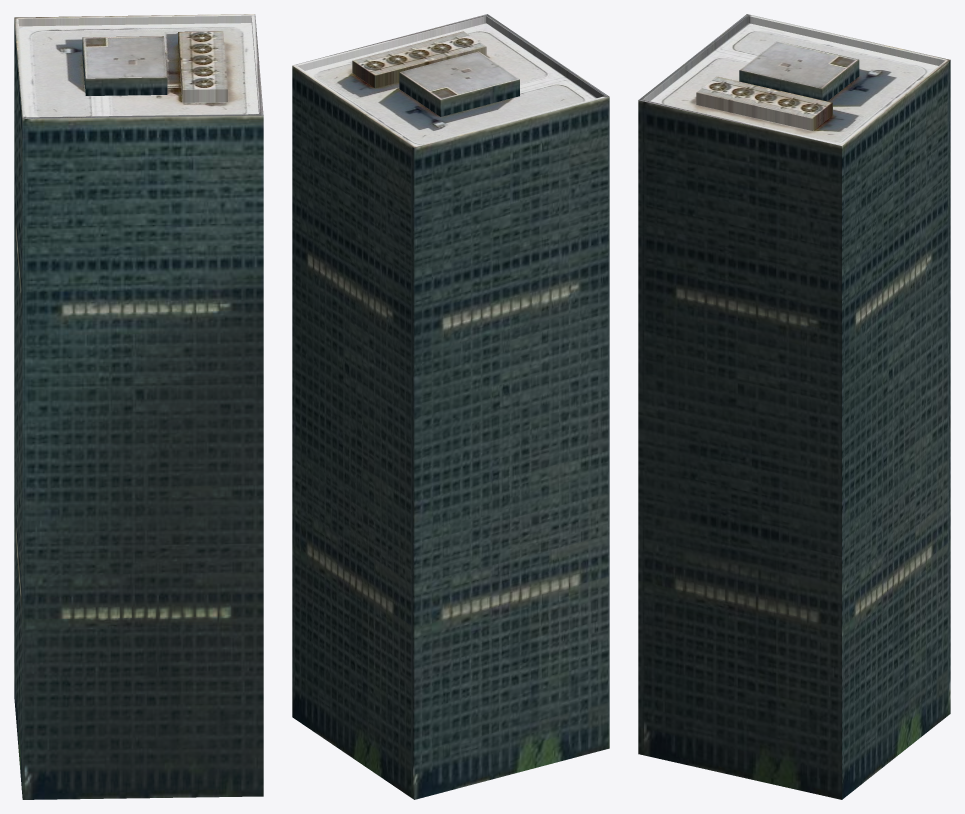
File: 1166-Avenue-of-the-Americas.fbx
3 views of the same model, side by side, from view 1: azimuth 30°, elevation 25°; view 2: azimuth 150°, elevation 25°; view 3: azimuth 270°, elevation 25° (orthographic). The views are drawn at different scales.
Visible parts, largest first — view 1: Model; view 2: Model; view 3: Model.
Part boxes in pixels (x1=…): Model: x1=14, y1=14, x2=263, y2=799; Model: x1=292, y1=14, x2=609, y2=799; Model: x1=638, y1=14, x2=950, y2=799.
Size of what is drawn, in the model's own units: 3124 by 7310 by 3121.
